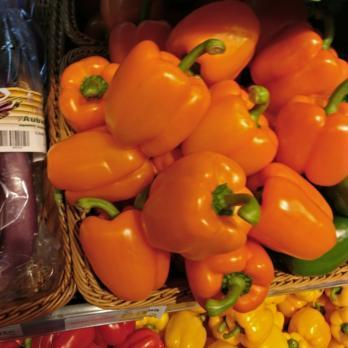Capsicum: (47, 2, 348, 315)
